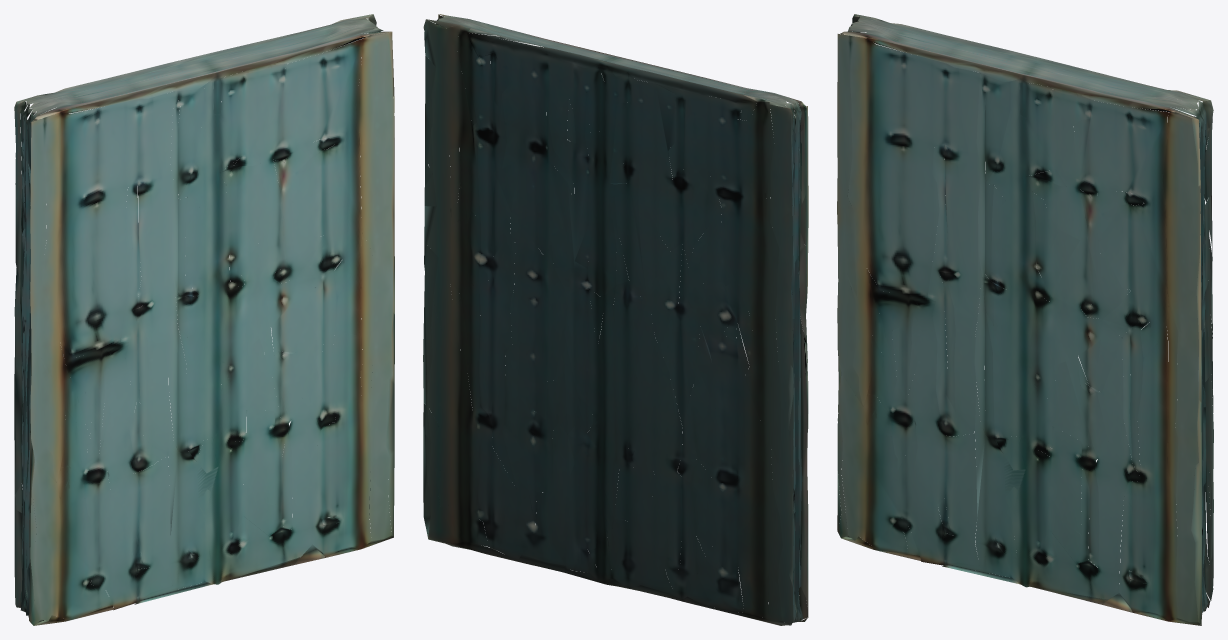
Rendered from door.glb.
The picture shows the model from 3 angles, left to right: view 1: azimuth 30°, elevation 25°; view 2: azimuth 150°, elevation 25°; view 3: azimuth 330°, elevation 25°; orthographic projection. The views are drawn at different scales.
Parts seen in each view (by area): view 1: door.glb; view 2: door.glb; view 3: door.glb.
Part boxes in pixels (left/top/right/bottom): door.glb: left=14, top=14, right=394, bottom=625; door.glb: left=423, top=14, right=808, bottom=625; door.glb: left=837, top=14, right=1213, bottom=625.
Bounding box in the file's own units: 21.24 × 28.89 × 1.71.
Materials: 1 (1 with a texture image).
